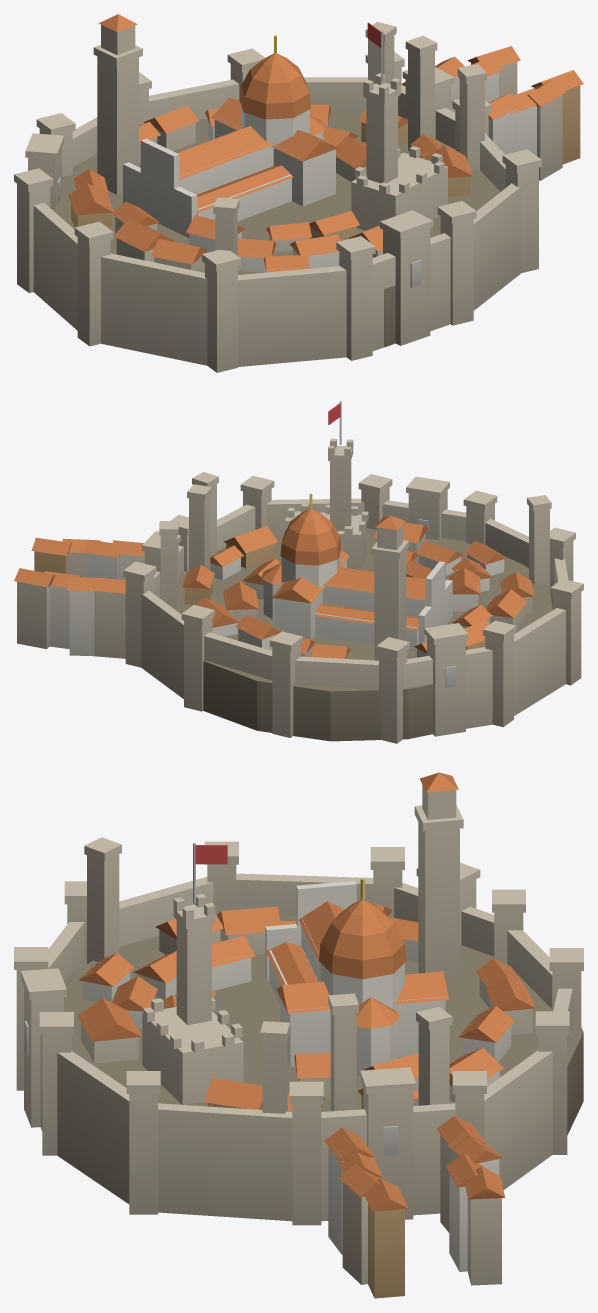
Rendered from city_med_a.glb.
3 renders of one model, top to bottom at view 1: azimuth 30°, elevation 25°; view 2: azimuth 150°, elevation 25°; view 3: azimuth 270°, elevation 25°, orthographic. The views are drawn at different scales.
Parts seen in each view (by area): view 1: city_med_a; view 2: city_med_a; view 3: city_med_a.
Part boxes in pixels (<box>): city_med_a: <box>14,14,583,372</box>; city_med_a: <box>14,401,583,743</box>; city_med_a: <box>14,772,583,1298</box>.
Size of the model in its own units: 3.75 by 1.58 by 2.76.
